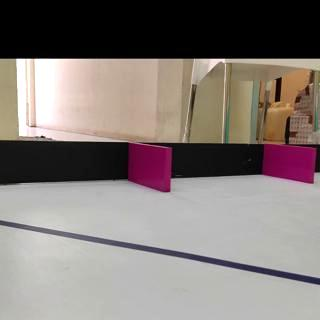xparking: (269, 145, 316, 184), (132, 146, 171, 191)
